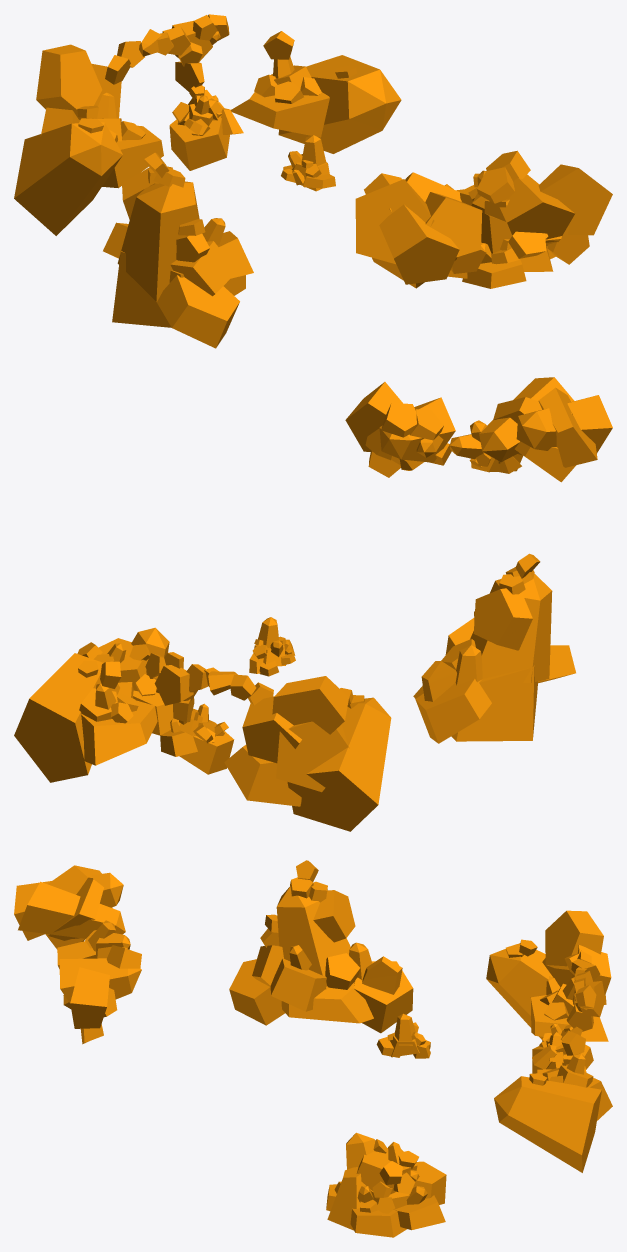
Rendered from NY_rubble.fbx.
3 renders of one model, top to bottom at view 1: azimuth 30°, elevation 25°; view 2: azimuth 150°, elevation 25°; view 3: azimuth 270°, elevation 25°, orthographic. The views are drawn at different scales.
Parts seen in each view (by area): view 1: wallSlope, L, wallWart1, R, wallWart02, D, U, island, heap; view 2: L, wallSlope, R, wallWart1, wallWart02, island, U, D, heap; view 3: wallSlope, island, L, R, wallWart1, wallWart02, U, D, heap.
Boxes of the visible parts, left/top/right/bottom form: wallSlope: left=103, top=152, right=253, bottom=348; L: left=14, top=44, right=163, bottom=235; wallWart1: left=355, top=172, right=486, bottom=288; R: left=231, top=31, right=401, bottom=153; wallWart02: left=477, top=150, right=612, bottom=264; D: left=169, top=85, right=243, bottom=170; U: left=117, top=14, right=229, bottom=92; island: left=448, top=170, right=555, bottom=288; heap: left=281, top=135, right=335, bottom=191; L: left=224, top=676, right=391, bottom=831; wallSlope: left=413, top=553, right=575, bottom=743; R: left=14, top=653, right=157, bottom=782; wallWart1: left=449, top=377, right=612, bottom=482; wallWart02: left=345, top=382, right=455, bottom=477; island: left=77, top=627, right=176, bottom=735; U: left=145, top=652, right=256, bottom=722; D: left=160, top=703, right=234, bottom=774; heap: left=249, top=617, right=295, bottom=676; wallSlope: left=229, top=860, right=413, bottom=1033; island: left=326, top=1132, right=446, bottom=1237; L: left=486, top=910, right=611, bottom=1041; R: left=494, top=1030, right=612, bottom=1172; wallWart1: left=14, top=865, right=130, bottom=968; wallWart02: left=59, top=945, right=141, bottom=1044; U: left=566, top=950, right=605, bottom=1031; D: left=532, top=1024, right=593, bottom=1073; heap: left=376, top=1013, right=430, bottom=1058.
Bounding box in the file's own units: 2665 × 1532 × 3472.
